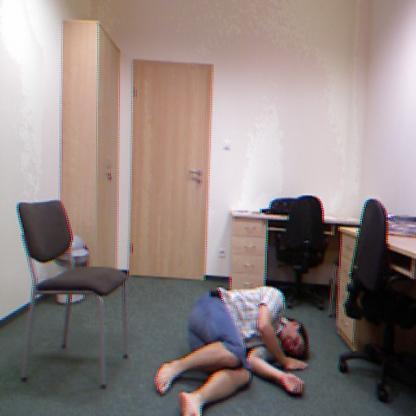fall: (153, 285, 310, 416)
